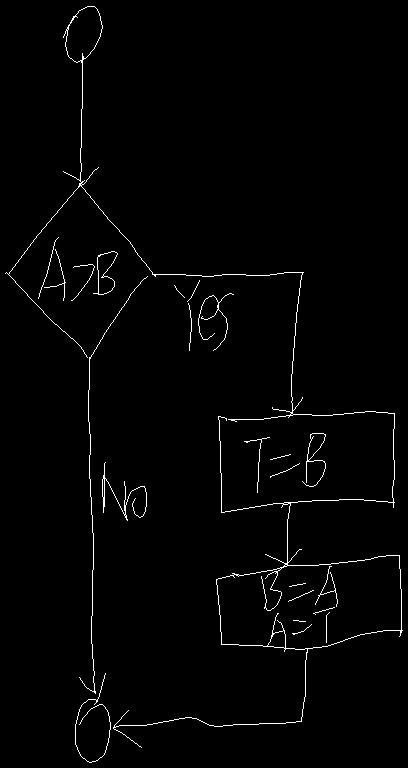arrow: (152, 272, 303, 417), (113, 649, 307, 747), (79, 357, 105, 704), (63, 53, 98, 186), (265, 502, 301, 573)
connection: (75, 699, 110, 762), (63, 6, 102, 62)
decision: (5, 180, 155, 359)
process: (218, 411, 394, 512), (216, 555, 402, 649)
text: (261, 566, 337, 651), (38, 237, 117, 300), (244, 433, 325, 492), (174, 280, 233, 350), (102, 462, 146, 520)
